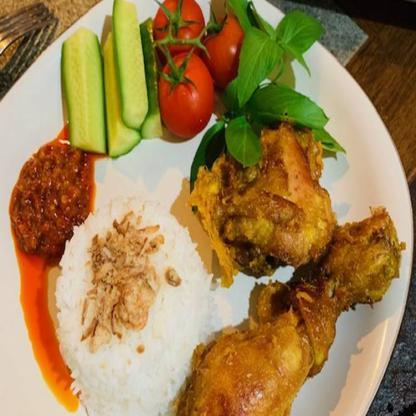ayam_goreng: (177, 207, 405, 416), (192, 130, 335, 269)
nasi_putih: (55, 200, 209, 415)
